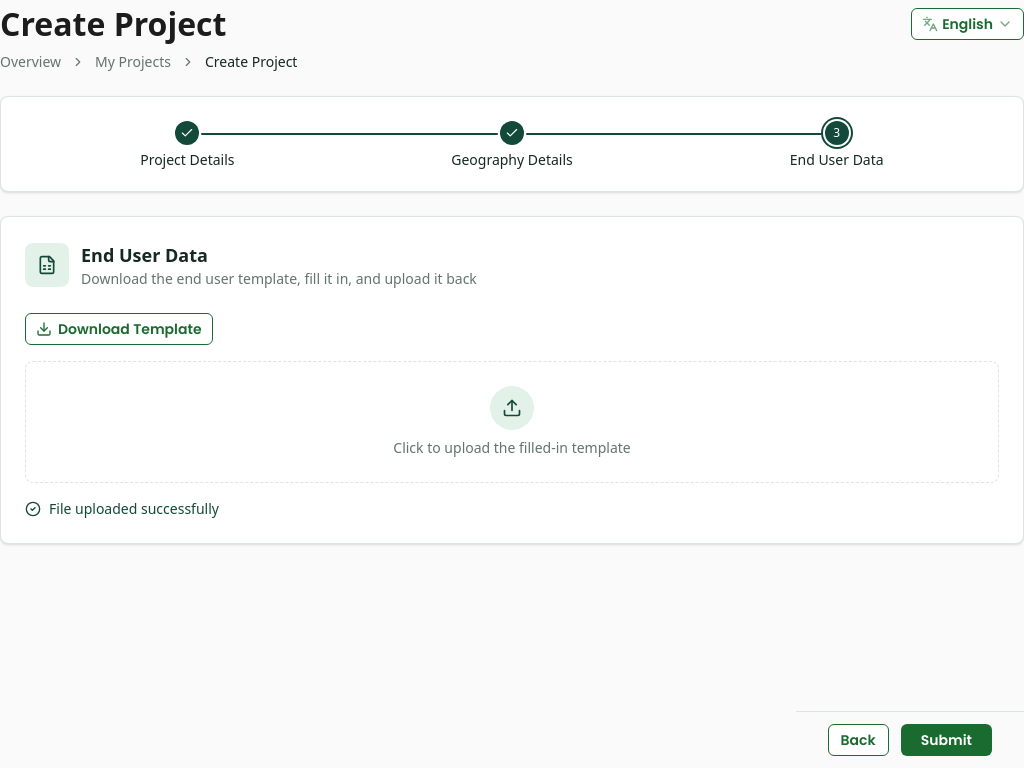
Scenario: CreateProjectPage › opens the confirm dialog on Submit, and shows the success card once scheduling succeeds
The image size is (1024, 768).
Click the button "Submit" at [946, 740], box [901,724,992,756]
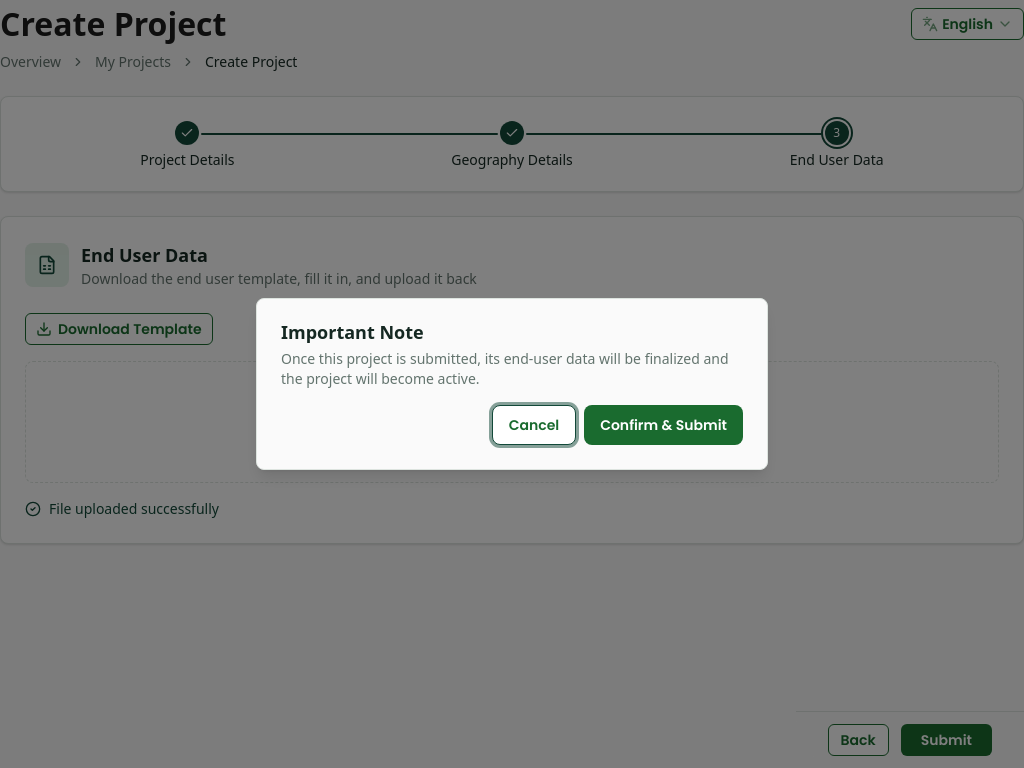
Now the dialog is shown, box [256,298,768,470]
Click the button "Confirm & Submit" at [664, 425], box [584,405,743,445]
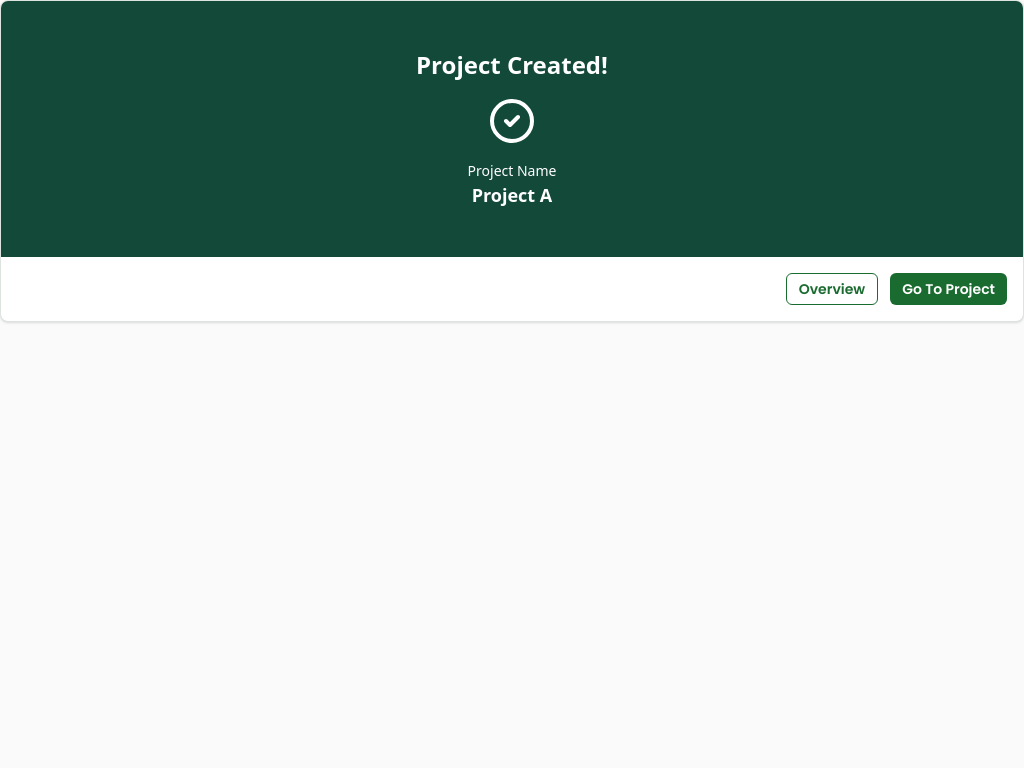
Now the heading "Project Created!" is shown, box [416,49,608,81]
Now the text "Project A" is shown, box [468,181,556,209]
